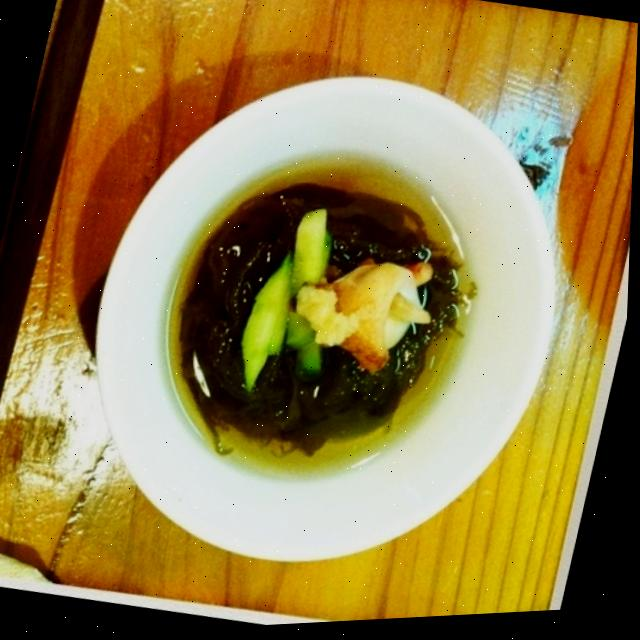蔬菜料理: (64, 53, 574, 571)
